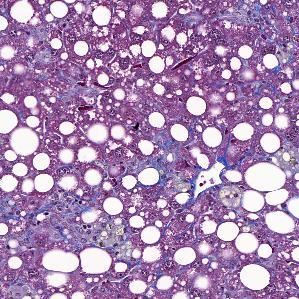fibrosis: (212, 3, 291, 48), (12, 195, 82, 242)
